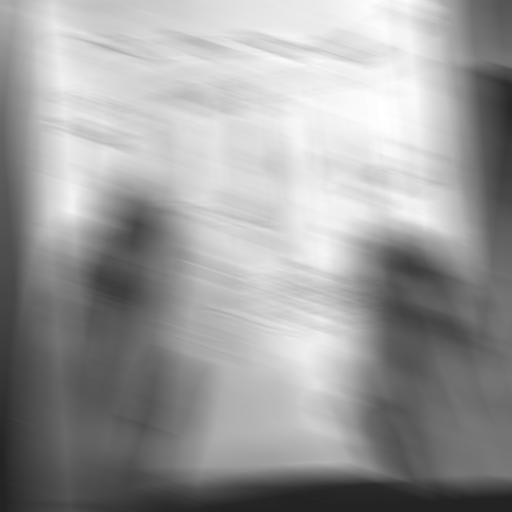bottom_left: (460, 453, 485, 473)
bottom_right: (53, 470, 76, 489)
bus: (22, 1, 469, 366)
